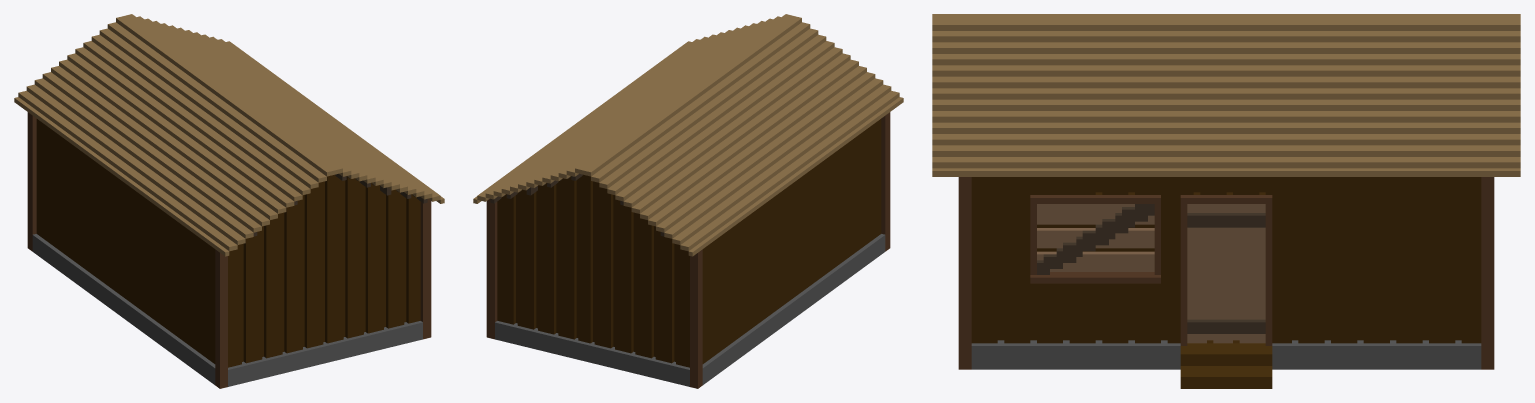
File: Casa 04.obj
3 renders of one model, left to right at view 1: azimuth 30°, elevation 25°; view 2: azimuth 150°, elevation 25°; view 3: azimuth 270°, elevation 25°, orthographic. The views are drawn at different scales.
Bounding box in the file's own units: 6 × 4.7 × 9.
Materials: 1 (1 with a texture image).
